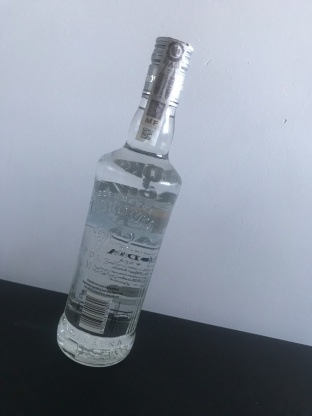nakretka: (139, 32, 195, 110)
